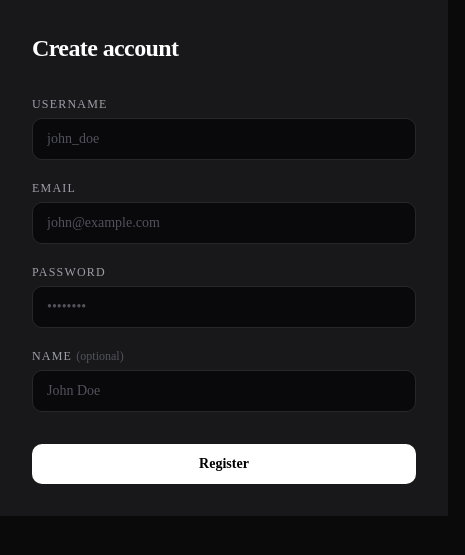
Test: SignUp › rejects a too short username
The image size is (465, 555).
In the field with placeholder "john_doe": (224, 139) [32,118,416,160], type "ab"
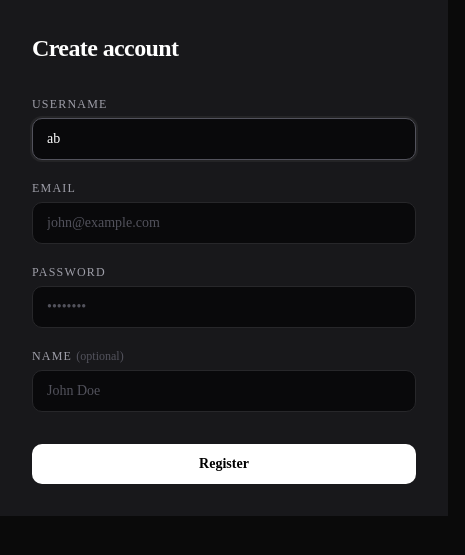
In the field with placeholder "john@example.com": (224, 223) [32,202,416,244], type "ivan@test.dev"
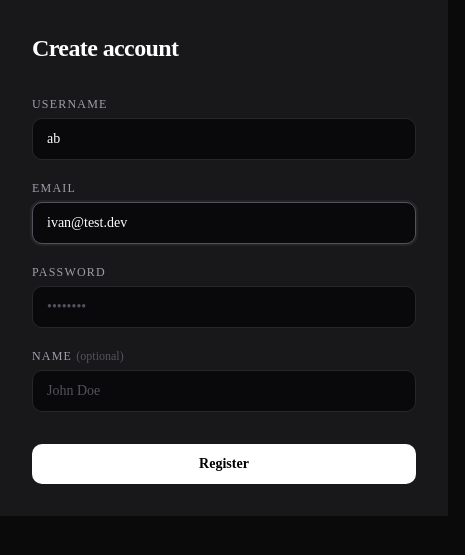
In the password field with placeholder "••••••••": (224, 307) [32,286,416,328], type "secret1"
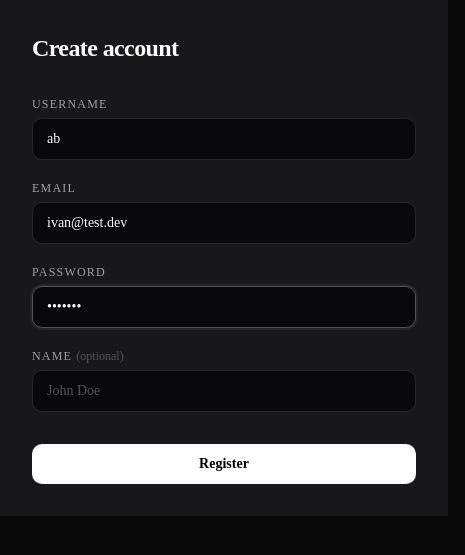
Click the button: (224, 464) [32,444,416,484]
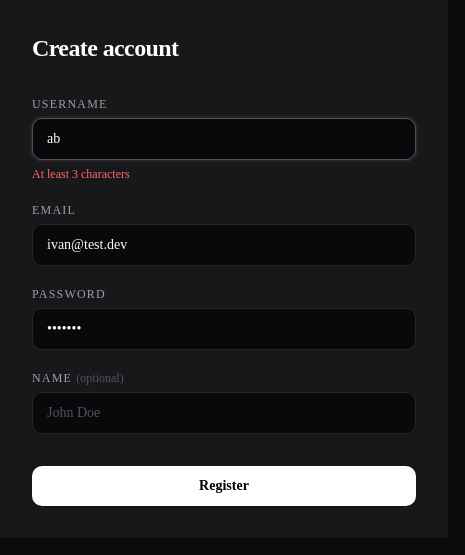
Now the text "At least 3 characters" is shown, box [32,167,130,181]
